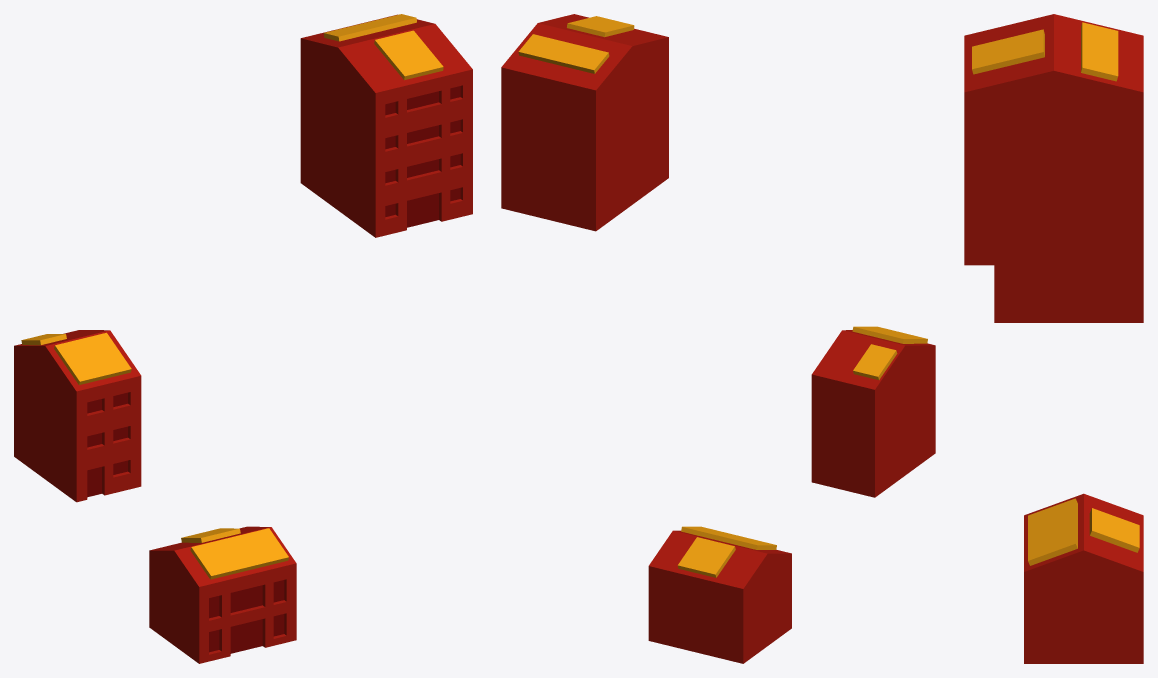
Rendered from BinaGrup11.gltf.
3 renders of one model, left to right at view 1: azimuth 30°, elevation 25°; view 2: azimuth 150°, elevation 25°; view 3: azimuth 270°, elevation 25°, orthographic. The views are drawn at different scales.
Visible parts, largest first — view 1: Building_049.003, Building_036.003, Building_044.003, Building_044_RoofCap_0.001, Building_036_RoofCap_0.001, Building_049.005, Building_049_RoofCap_0.001, Building_044.005, Building_049_RoofCap_1.001, Building_044.004, Building_049.004, Building_036.005; view 2: Building_049.003, Building_036.003, Building_044.003, Building_049_RoofCap_1.001, Building_044_RoofCap_1.001, Building_036_RoofCap_1.001, Building_049_RoofCap_0.001, Building_044_RoofCap_0.001, Building_036_RoofCap_0.001; view 3: Building_049.003, Building_044.003, Building_036.003, Building_044_RoofCap_0.001, Building_049_RoofCap_0.001, Building_049_RoofCap_1.001, Building_044_RoofCap_1.001.
Part boxes in pixels (<box>): Building_049.003: <box>300,14,472,237</box>; Building_036.003: <box>14,330,141,502</box>; Building_044.003: <box>149,526,296,663</box>; Building_044_RoofCap_0.001: <box>190,528,288,579</box>; Building_036_RoofCap_0.001: <box>54,332,131,384</box>; Building_049.005: <box>385,86,460,216</box>; Building_049_RoofCap_0.001: <box>374,30,443,80</box>; Building_044.005: <box>209,580,284,652</box>; Building_049_RoofCap_1.001: <box>323,14,416,41</box>; Building_044.004: <box>230,619,262,653</box>; Building_049.004: <box>407,193,438,227</box>; Building_036.005: <box>87,392,127,474</box>; Building_049.003: <box>501,14,668,231</box>; Building_036.003: <box>811,330,935,497</box>; Building_044.003: <box>648,530,791,663</box>; Building_049_RoofCap_1.001: <box>518,34,609,73</box>; Building_044_RoofCap_1.001: <box>677,537,735,577</box>; Building_036_RoofCap_1.001: <box>853,344,897,379</box>; Building_049_RoofCap_0.001: <box>567,16,634,37</box>; Building_044_RoofCap_0.001: <box>681,526,776,549</box>; Building_036_RoofCap_0.001: <box>852,326,927,343</box>; Building_049.003: <box>964,14,1143,265</box>; Building_044.003: <box>1024,493,1143,663</box>; Building_036.003: <box>994,265,1143,322</box>; Building_044_RoofCap_0.001: <box>1028,498,1077,565</box>; Building_049_RoofCap_0.001: <box>972,29,1044,74</box>; Building_049_RoofCap_1.001: <box>1081,22,1118,81</box>; Building_044_RoofCap_1.001: <box>1089,508,1139,552</box>.
Size of the model in its own units: 0.1929 by 0.2753 by 0.0652.
